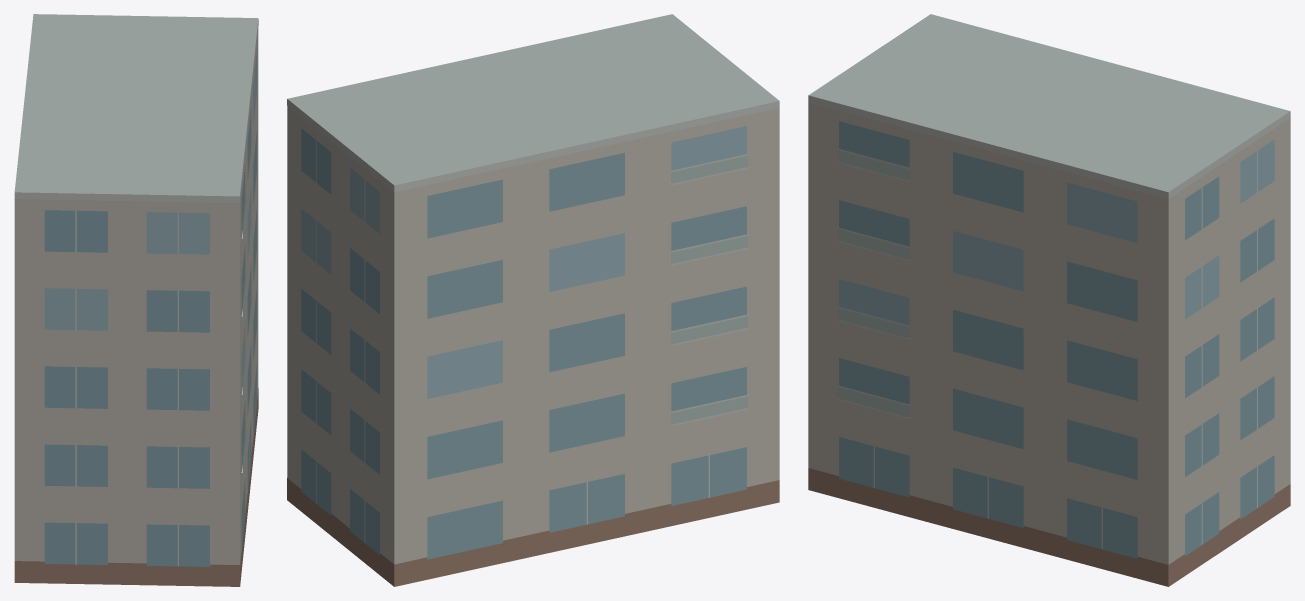
File: survey-upis-32881274.glb
The picture shows the model from 3 angles, left to right: view 1: azimuth 30°, elevation 25°; view 2: azimuth 150°, elevation 25°; view 3: azimuth 270°, elevation 25°; orthographic projection. The views are drawn at different scales.
Visible parts, largest first — view 1: survey-upis-32881274.tmp; view 2: survey-upis-32881274.tmp; view 3: survey-upis-32881274.tmp.
Boxes of the visible parts, box(x1,y1,x2,y2) form: survey-upis-32881274.tmp: box(14, 14, 258, 586); survey-upis-32881274.tmp: box(287, 14, 779, 586); survey-upis-32881274.tmp: box(808, 14, 1290, 586).
Bounding box in the file's own units: 13.86 × 14.3 × 15.84.
